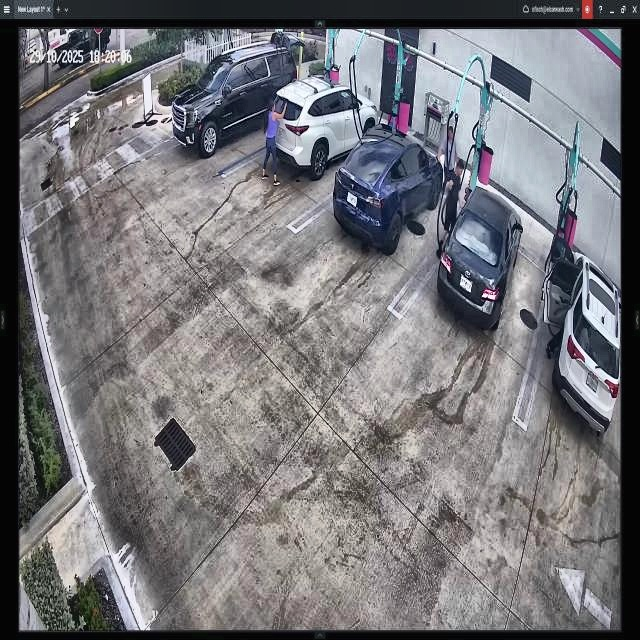Car: (171, 44, 298, 156), (335, 124, 443, 248), (438, 189, 523, 331), (272, 74, 378, 172)
